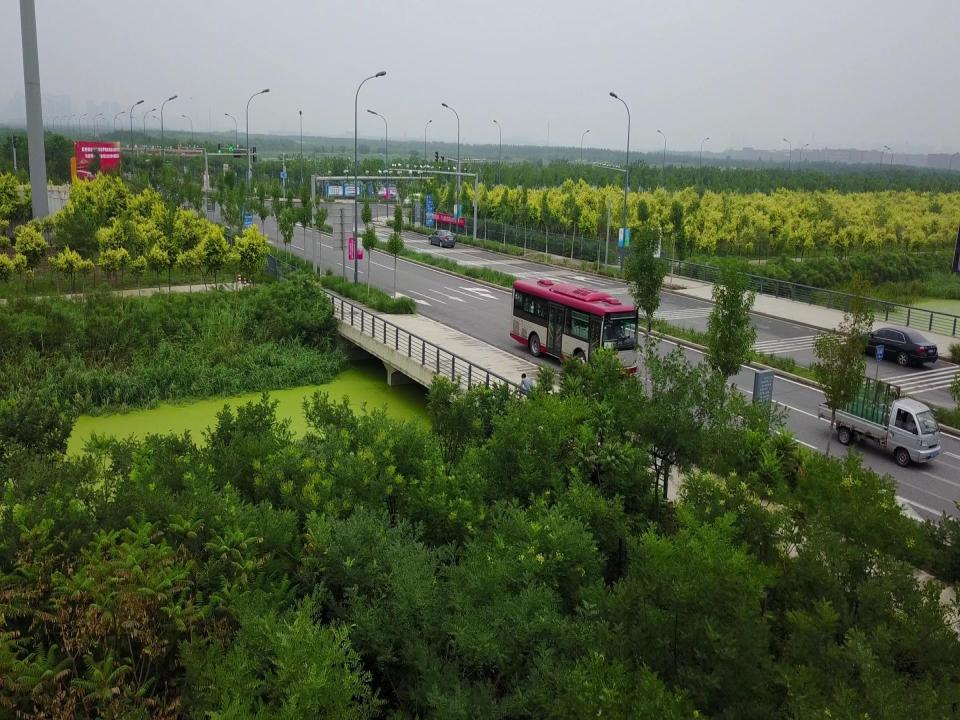bus: (509, 279, 651, 377)
car: (850, 326, 938, 365), (428, 229, 455, 248)
truck: (818, 371, 940, 467)
van: (403, 194, 425, 208)
